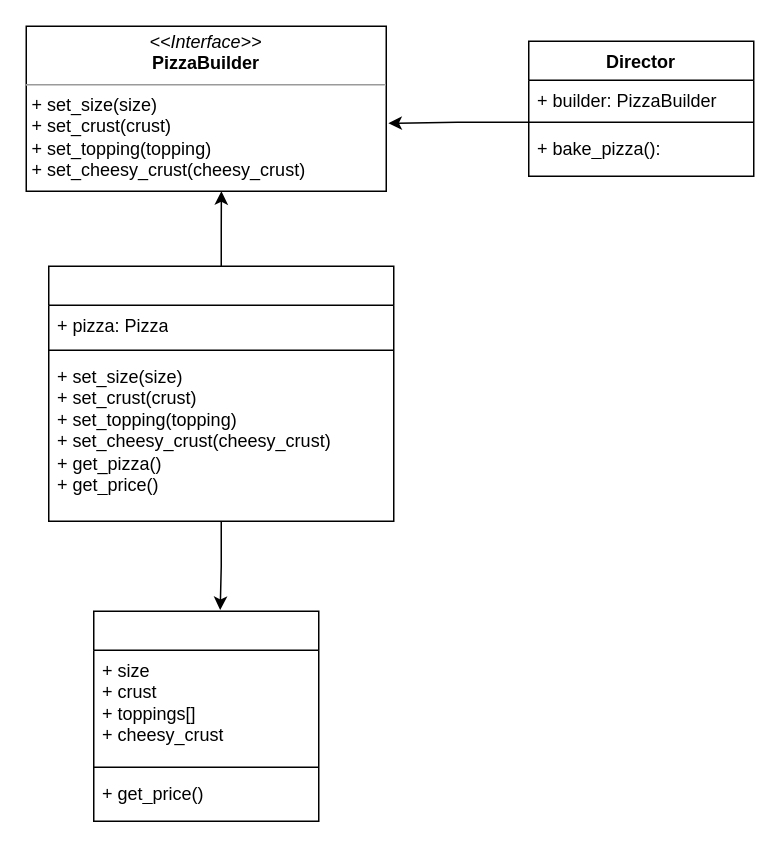
Some shapes in this 780 by 852 pixel diagram are drawn without their labels. Each missing label, with the box of its shape:
ConcretePizzaBuilder: (47, 265, 394, 521)
Pizza: (92, 610, 319, 821)
